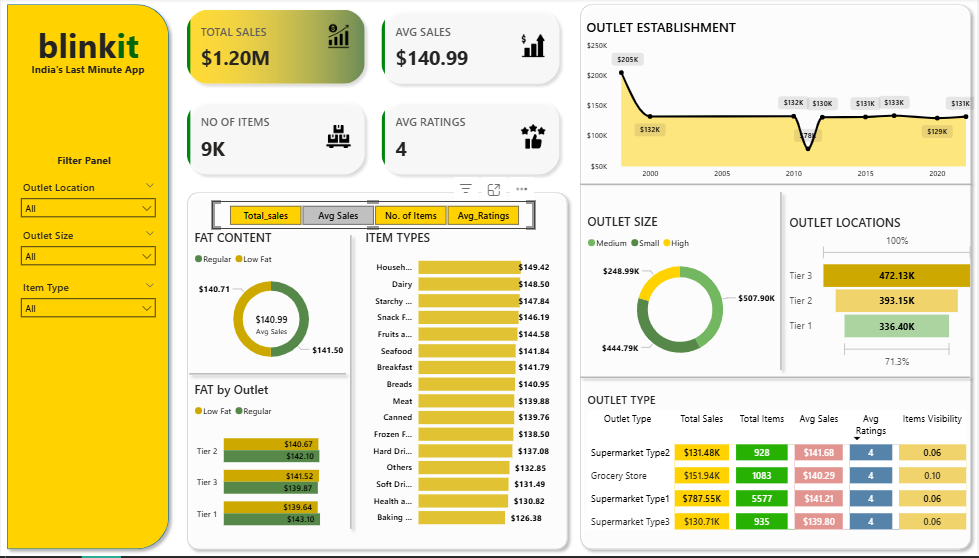

This screenshot's page, from the dashboard's own definition file:
{"tool":"powerbi","page":{"name":"Page 1","canvas":[1400,800],"ordinal":0},"visuals":[{"type":"shape","box":[0,0,249.9,799.2],"z":0},{"type":"textbox","box":[38.3,28.3,173.3,75],"z":1000},{"type":"textbox","box":[31.7,86.7,186.7,33.3],"z":2000},{"type":"cardVisual","fields":{"Data":["BlinkIT Grocery Data.Total_sales","BlinkIT Grocery Data.Avg Sales","BlinkIT Grocery Data.No. of Items","BlinkIT Grocery Data.Avg_Ratings"]},"box":[249.9,0,569.6,270.1],"z":3000},{"type":"shape","box":[257.4,269.5,563,529.9],"z":4000},{"type":"donutChart","title":"FAT CONTENT","fields":{"Y":["BlinkIT Grocery Data.Total_sales"],"Category":["BlinkIT Grocery Data.Item Fat Content"]},"box":[273.1,330.9,229.7,207.2],"z":5000},{"type":"slicer","fields":{"Values":["Metrics.Metrics"]},"box":[302,290.8,464.3,40.2],"z":6000},{"type":"cardVisual","fields":{"Data":["BlinkIT Grocery Data.Total_sales"]},"box":[324.5,430.5,128.5,75.5],"z":7000},{"type":"clusteredBarChart","title":"FAT by Outlet ","fields":{"Y":["BlinkIT Grocery Data.Total_sales"],"Category":["BlinkIT Grocery Data.Outlet Location Type"],"Series":["BlinkIT Grocery Data.Item Fat Content"]},"box":[272.5,549.5,228.8,231.8],"z":8000},{"type":"shape","box":[260.2,526.9,242.6,22.5],"z":9000},{"type":"shape","box":[483.5,330.9,36.9,438.6],"z":10000},{"type":"barChart","title":"ITEM TYPES","fields":{"Y":["BlinkIT Grocery Data.Total_sales"],"Category":["BlinkIT Grocery Data.Item Type"]},"box":[517.8,331.2,274,438.1],"z":11000},{"type":"shape","box":[821.9,0,578.1,799.4],"z":12000},{"type":"lineChart","title":" OUTLET ESTABLISHMENT ","fields":{"Category":["BlinkIT Grocery Data.Outlet Establishment Year"],"Y":["BlinkIT Grocery Data.Total_sales"]},"box":[834,28.6,566,240.9],"z":13000},{"type":"shape","box":[821.5,258.1,579.2,11.5],"z":14000},{"type":"donutChart","title":"OUTLET SIZE","fields":{"Y":["BlinkIT Grocery Data.Total_sales"],"Category":["BlinkIT Grocery Data.Outlet Size"]},"box":[835.5,308.6,275.5,225.8],"z":15000},{"type":"funnel","title":"OUTLET LOCATIONS","fields":{"Y":["Sum(BlinkIT Grocery Data.Total Sales)"],"Category":["BlinkIT Grocery Data.Outlet Location Type"]},"box":[1126,310.1,274,225.8],"z":16000},{"type":"pivotTable","title":"OUTLET TYPE","fields":{"Values":["BlinkIT Grocery Data.Total_sales","BlinkIT Grocery Data.No. of Items","BlinkIT Grocery Data.Avg Sales","BlinkIT Grocery Data.Avg_Ratings","Avg(BlinkIT Grocery Data.Item Visibility)"],"Rows":["BlinkIT Grocery Data.Outlet Type"]},"box":[835.7,564.3,564.3,205.7],"z":17000},{"type":"shape","box":[821.8,535.5,576.4,14.5],"z":17001},{"type":"shape","box":[1100,270,37.1,272.9],"z":17002},{"type":"slicer","fields":{"Values":["BlinkIT Grocery Data.Outlet Location Type"]},"box":[18.3,255.6,213.3,68.3],"z":17003},{"type":"slicer","fields":{"Values":["BlinkIT Grocery Data.Outlet Size"]},"box":[18.3,323.9,213.3,68.3],"z":17004},{"type":"slicer","fields":{"Values":["BlinkIT Grocery Data.Item Type"]},"box":[18.3,398.9,213.3,68.3],"z":17005},{"type":"textbox","box":[61.6,216.5,114.7,38.7],"z":17006}]}

Visuals, with their boxes in screenshot pixels (x1, y1, x2, y2), scaled from the page's 1400x800 canvas onto the 979x558 screenshot:
shape: [0,0,175,557]
textbox: [27,20,148,72]
textbox: [22,60,153,84]
cardVisual - BlinkIT Grocery Data.Total_sales x BlinkIT Grocery Data.Avg Sales: [175,0,573,188]
shape: [180,188,574,557]
"FAT CONTENT" donutChart: [191,231,352,375]
slicer - Metrics.Metrics: [211,203,536,231]
cardVisual - BlinkIT Grocery Data.Total_sales: [227,300,317,353]
"FAT by Outlet " clusteredBarChart: [191,383,351,545]
shape: [182,368,352,383]
shape: [338,231,364,537]
"ITEM TYPES" barChart: [362,231,554,537]
shape: [575,0,978,557]
" OUTLET ESTABLISHMENT " lineChart: [583,20,978,188]
shape: [574,180,978,188]
"OUTLET SIZE" donutChart: [584,215,777,373]
"OUTLET LOCATIONS" funnel: [787,216,978,374]
"OUTLET TYPE" pivotTable: [584,394,978,537]
shape: [575,374,978,384]
shape: [769,188,795,379]
slicer - BlinkIT Grocery Data.Outlet Location Type: [13,178,162,226]
slicer - BlinkIT Grocery Data.Outlet Size: [13,226,162,274]
slicer - BlinkIT Grocery Data.Item Type: [13,278,162,326]
textbox: [43,151,123,178]
